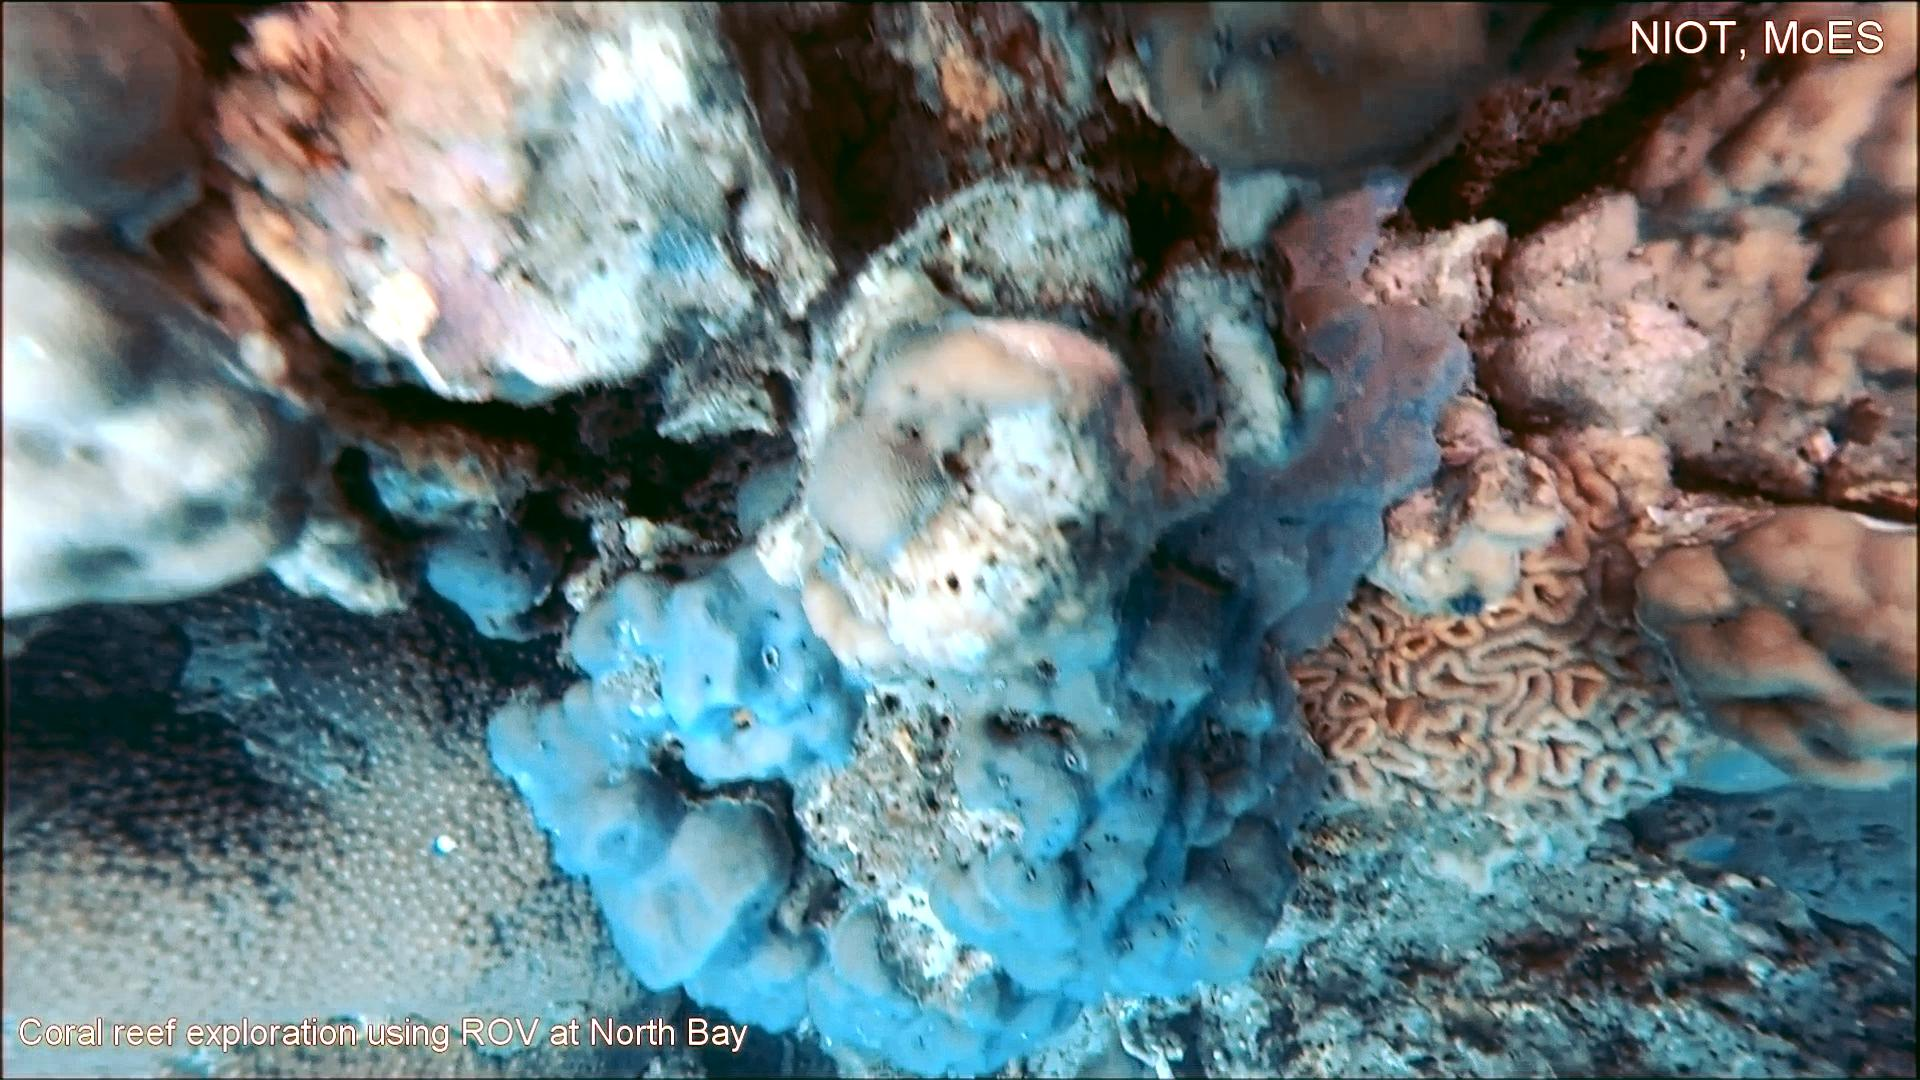Lobophyllia: (1280, 431, 1726, 882)
